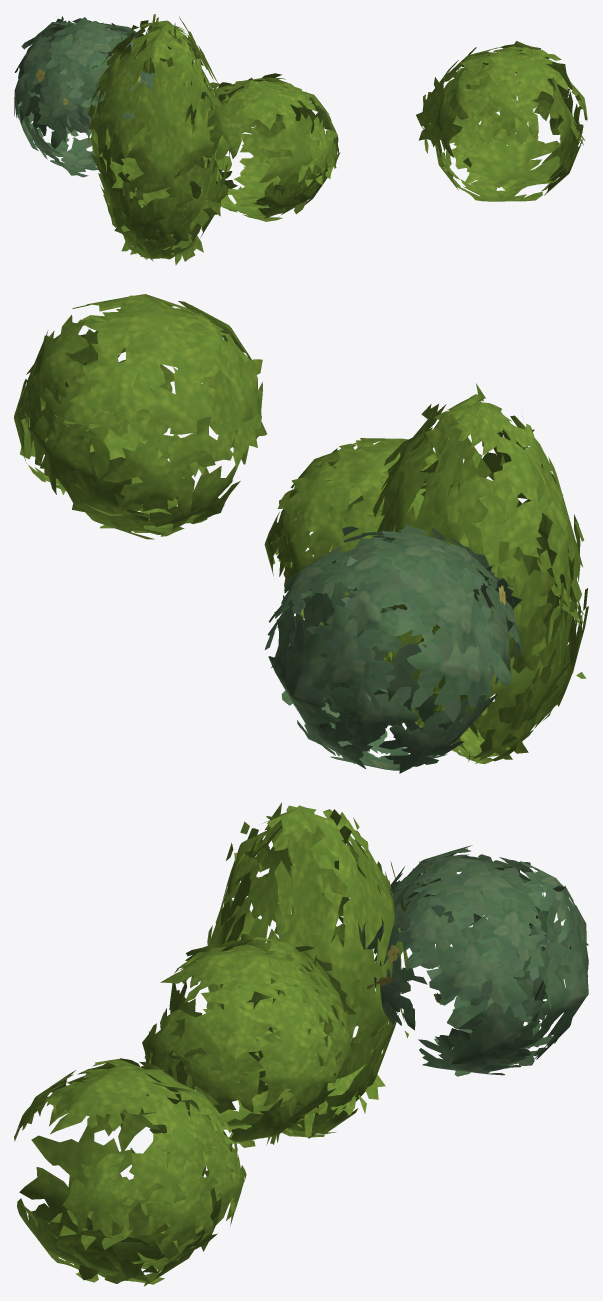
Rendered from pref_sm_beach_bk_pointmol_grassplant06_lv1.fbx.
3 views of the same model, one above another, from view 1: azimuth 30°, elevation 25°; view 2: azimuth 150°, elevation 25°; view 3: azimuth 270°, elevation 25° (orthographic). The views are drawn at different scales.
Parts seen in each view (by area): view 1: pref_sm_beach_bk_pointmol_grassplant06_lv1; view 2: pref_sm_beach_bk_pointmol_grassplant06_lv1; view 3: pref_sm_beach_bk_pointmol_grassplant06_lv1.
Part boxes in pixels (box(x1,y1,x2,y2)): pref_sm_beach_bk_pointmol_grassplant06_lv1: box(14, 14, 587, 265); pref_sm_beach_bk_pointmol_grassplant06_lv1: box(14, 294, 588, 773); pref_sm_beach_bk_pointmol_grassplant06_lv1: box(14, 802, 588, 1286).
Bounding box in the file's own units: 8.42 × 4.48 × 6.82.
